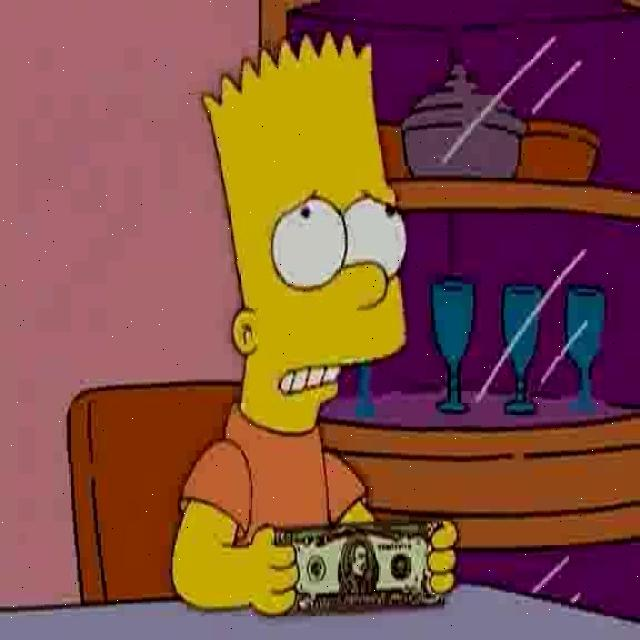Bart Simpson: (199, 28, 410, 437)
